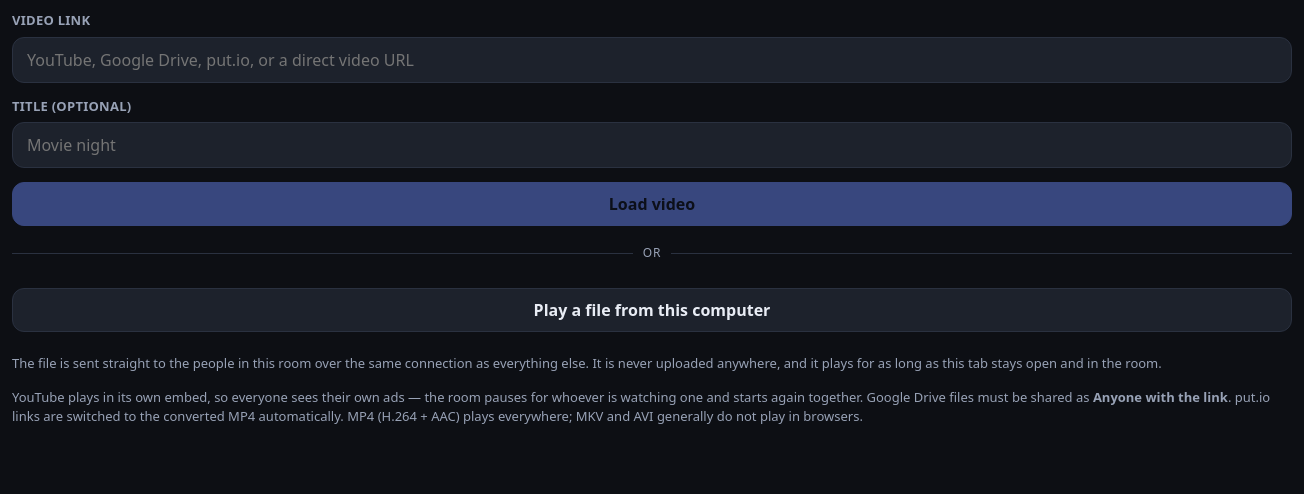
Test: MediaPicker › explains that a folder link is not a video
In the field labelled "Video link": [652, 60] box top-left (12, 36), bottom-right (1292, 82), type "https://drive.google.com/drive/folders/1A2b3C4d5E6f7G8h9I0jKlMnOpQrStUv"
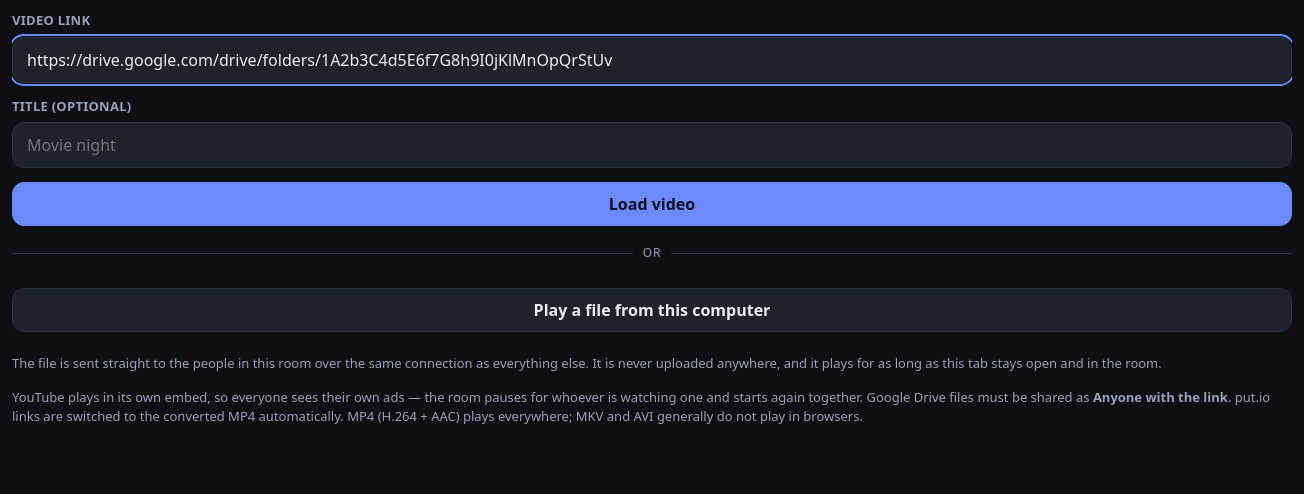
Click the button "Load video": [652, 204] box top-left (12, 182), bottom-right (1292, 226)
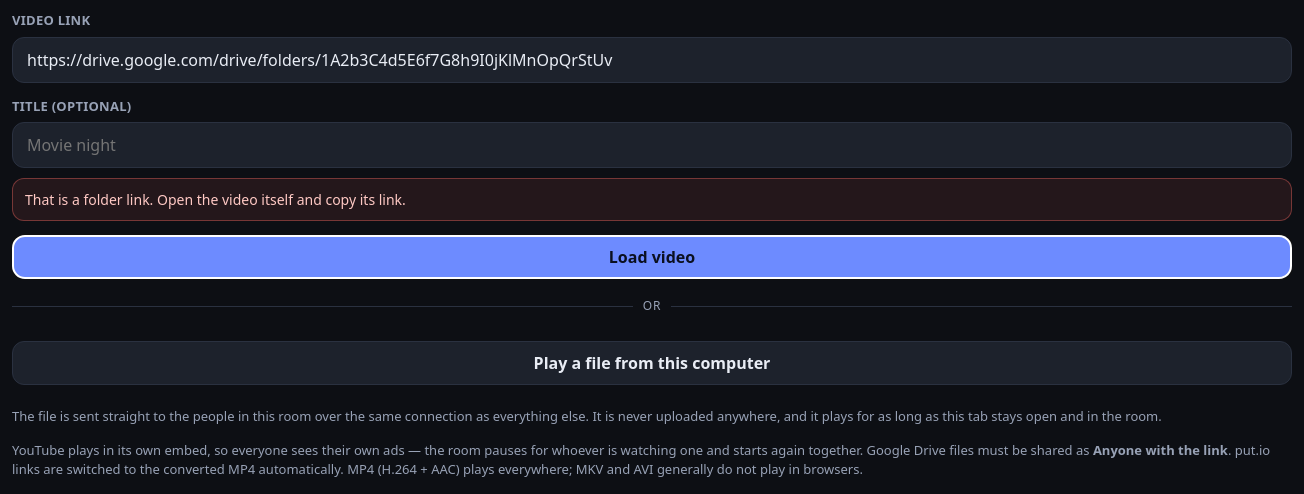
Check: the message shows "folder link", box top-left (25, 190), bottom-right (406, 209)
